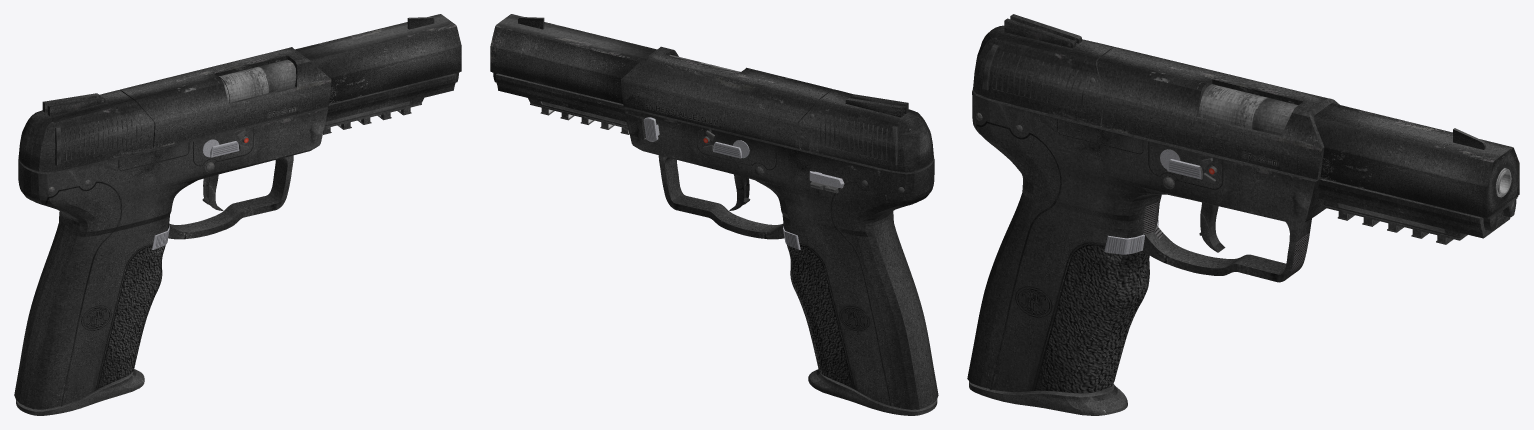
File: FiveSeven.fbx
3 renders of one model, left to right at view 1: azimuth 30°, elevation 25°; view 2: azimuth 150°, elevation 25°; view 3: azimuth 330°, elevation 25°, orthographic. The views are drawn at different scales.
Parts seen in each view (by area): view 1: object, object.001; view 2: object, object.001; view 3: object, object.001.
Boxes of the visible parts, bbox=[...] form: object: bbox=[14, 14, 461, 415]; object.001: bbox=[202, 174, 223, 210]; object: bbox=[490, 14, 938, 415]; object.001: bbox=[729, 174, 750, 210]; object: bbox=[967, 14, 1519, 415]; object.001: bbox=[1199, 202, 1225, 252].
Bounding box in the file's own units: 132 × 87.76 × 19.48.
